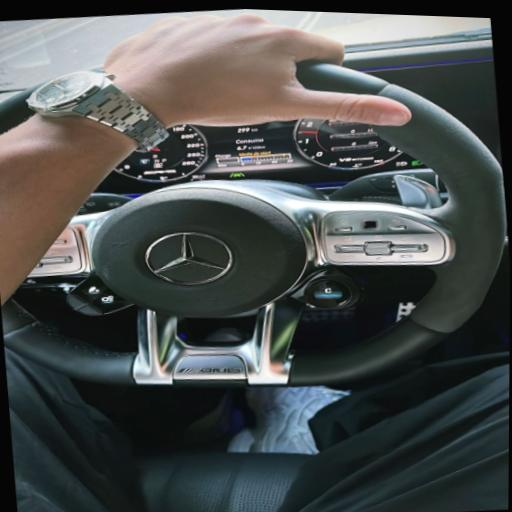Hands-on-the-Wheel: (13, 1, 429, 170)
